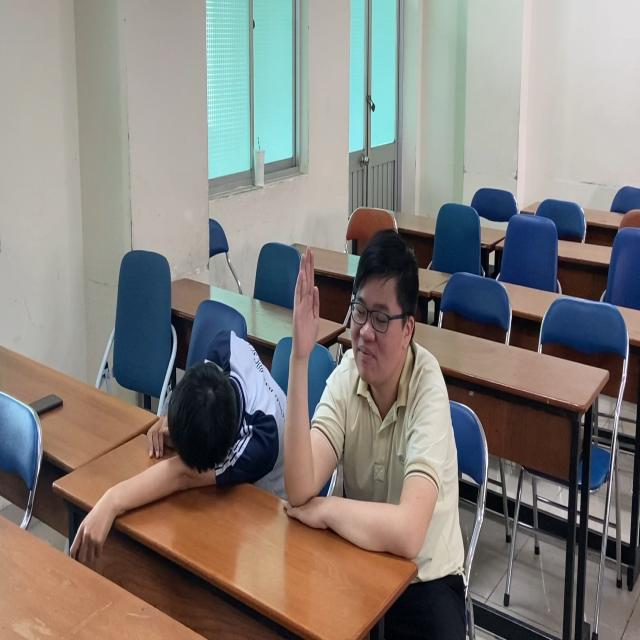raise_hand: (284, 233, 454, 582)
sleep: (71, 316, 284, 564)
